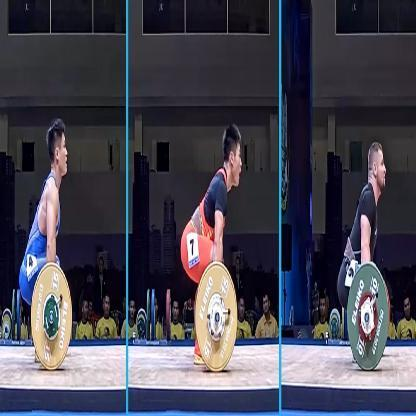barbell: (192, 264, 240, 374), (346, 262, 392, 373), (30, 262, 74, 371)
